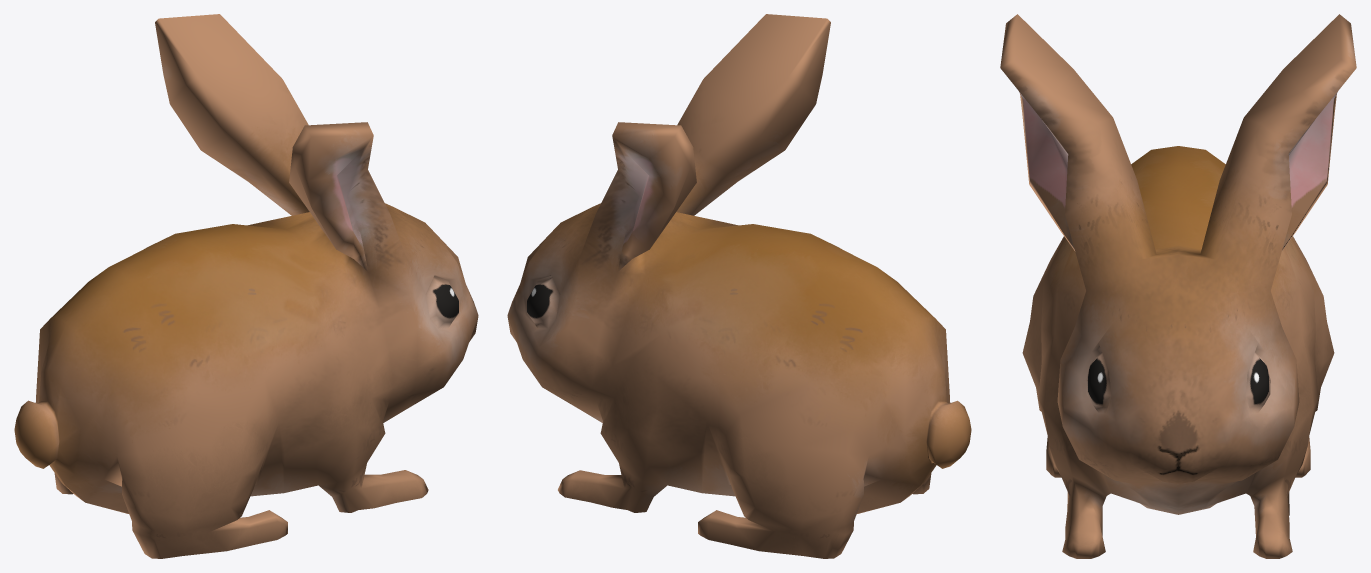
The model's file is rabbit.fbx.
3 views of the same model, side by side, from view 1: azimuth 30°, elevation 25°; view 2: azimuth 150°, elevation 25°; view 3: azimuth 270°, elevation 25° (orthographic). The views are drawn at different scales.
Parts seen in each view (by area): view 1: rabbit_obj_01_uvdone:pCube3; view 2: rabbit_obj_01_uvdone:pCube3; view 3: rabbit_obj_01_uvdone:pCube3.
Part boxes in pixels (x1=…): rabbit_obj_01_uvdone:pCube3: x1=14, y1=14, x2=478, y2=558; rabbit_obj_01_uvdone:pCube3: x1=507, y1=14, x2=971, y2=558; rabbit_obj_01_uvdone:pCube3: x1=1000, y1=14, x2=1356, y2=558.
Size of the model in its own units: 134 by 120 by 83.5.
Materials: 1 (1 with a texture image).
